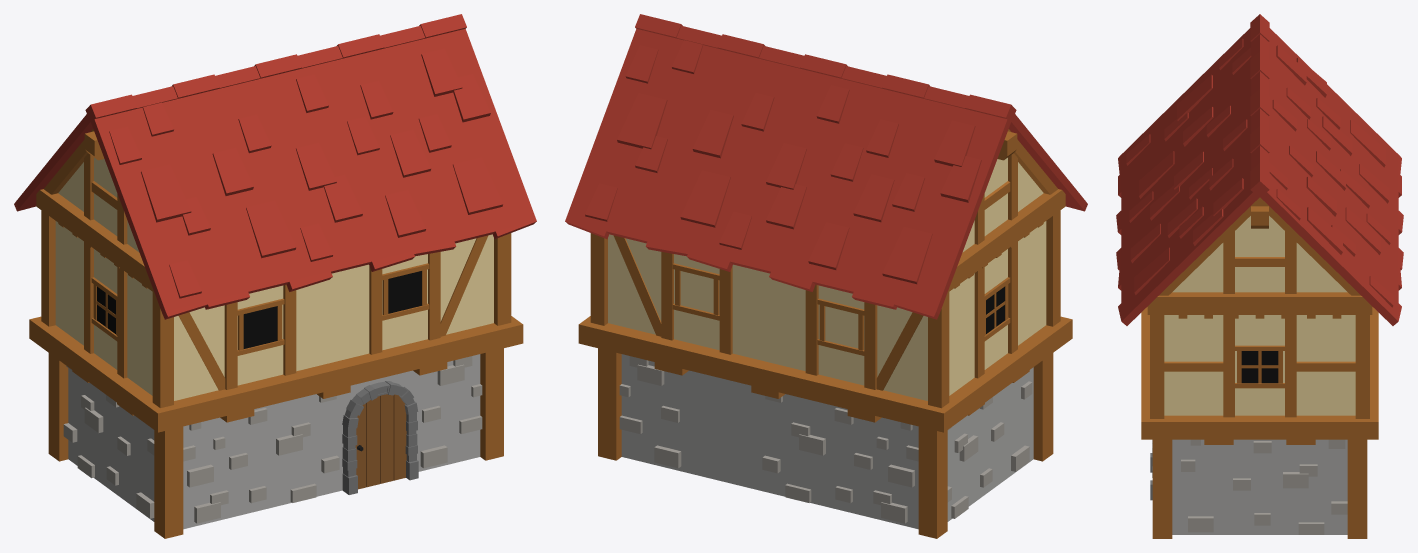
File: TownHouse_01.fbx
3 views of the same model, side by side, from view 1: azimuth 30°, elevation 25°; view 2: azimuth 150°, elevation 25°; view 3: azimuth 270°, elevation 25° (orthographic). The views are drawn at different scales.
Visible parts, largest first — view 1: Cube.519; view 2: Cube.519; view 3: Cube.519.
Boxes of the visible parts, x1,y1,x2,y2 form: Cube.519: (14,14,536,538); Cube.519: (565,14,1087,538); Cube.519: (1116,14,1403,538).
Bounding box in the file's own units: 11.21 × 15.49 × 15.69.
